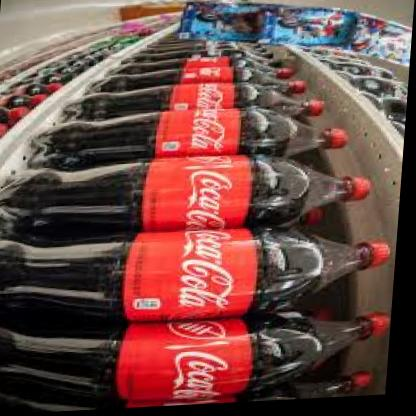Plastic: (0, 217, 393, 330), (0, 150, 379, 236), (36, 100, 355, 193)
